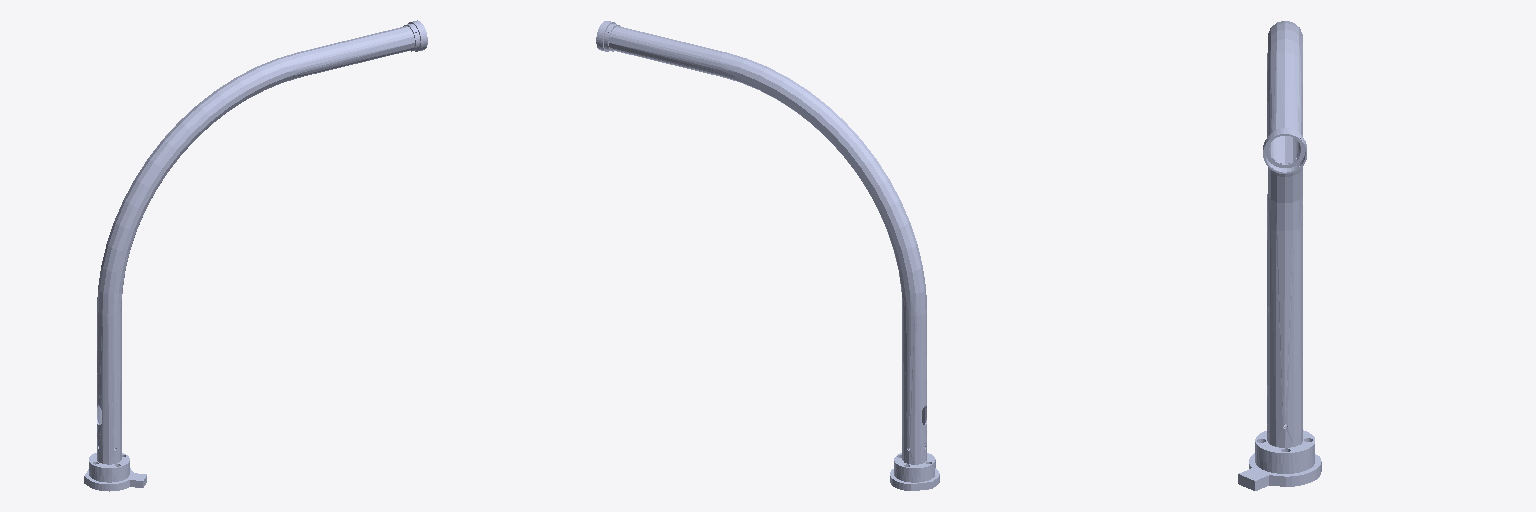
robot.urdf — eeloscope_urdf:
<?xml version="1.0" encoding="utf-8"?>
<!-- This URDF was automatically created by SolidWorks to URDF Exporter! Originally created by [author] ([email redacted]) 
     Commit Version: 1.6.0-4-g7f85cfe  Build Version: 1.6.7995.38578
     For more information, please see http://wiki.ros.org/sw_urdf_exporter -->
<robot
  name="eeloscope_urdf">
  <link
    name="base_link">
    <inertial>
      <origin
        xyz="0.057054 -0.00032611 0.17729"
        rpy="0 0 0" />
      <mass
        value="0.6592" />
      <inertia
        ixx="0.0080226"
        ixy="5.3093E-06"
        ixz="-0.0055958"
        iyy="0.014429"
        iyz="-8.4912E-07"
        izz="0.006652" />
    </inertial>
    <visual>
      <origin
        xyz="0 0 0"
        rpy="0 0 0" />
      <geometry>
        <mesh
          filename="package://eeloscope_urdf/meshes/base_link.STL" />
      </geometry>
      <material
        name="">
        <color
          rgba="0.79216 0.81961 0.93333 1" />
      </material>
    </visual>
    <collision>
      <origin
        xyz="0 0 0"
        rpy="0 0 0" />
      <geometry>
        <mesh
          filename="package://eeloscope_urdf/meshes/base_link.STL" />
      </geometry>
    </collision>
  </link>
</robot>

--- Facts derived from the render (not from the file) ---
Views: 3 orthographic renders of the robot side by side, from view 1: azimuth 30°, elevation 25°; view 2: azimuth 150°, elevation 25°; view 3: azimuth 270°, elevation 25°.
Robot: eeloscope_urdf — 1 links, 0 joints (none); root link base_link; default pose: all joints at 0.
Links seen in each view (by area): view 1: base_link; view 2: base_link; view 3: base_link.
Link boxes in pixels (box(x1,y1,x2,y2)): base_link: box(84, 20, 427, 491); base_link: box(596, 21, 939, 490); base_link: box(1238, 21, 1321, 490).
Size in the robot's own frame: 0.584 by 0.087 by 0.6442 metres.
1 mesh visuals loaded from 1 distinct referenced files (1 binary STL).